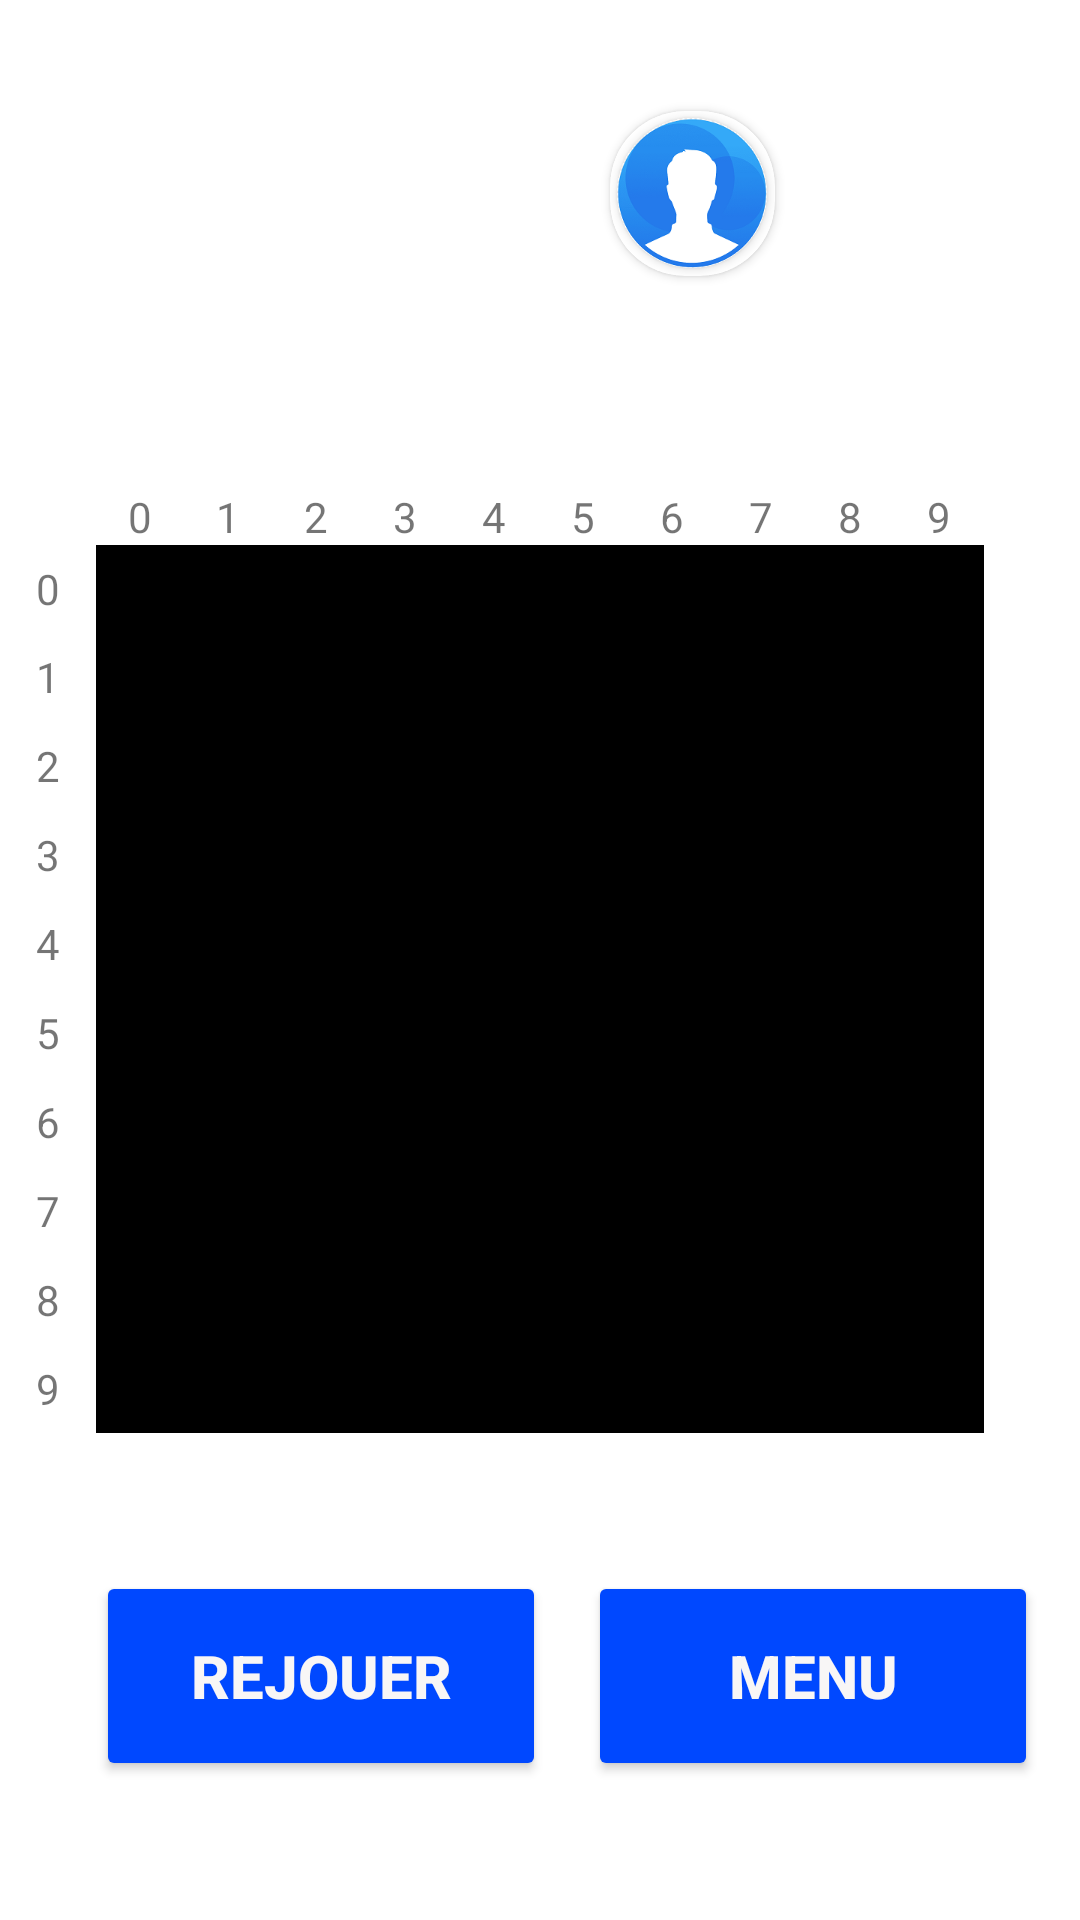

Where icons sit on this 1080x1920 app screen, as (x1, y1, x2, y2):
joueur base: (617, 118, 767, 268)
